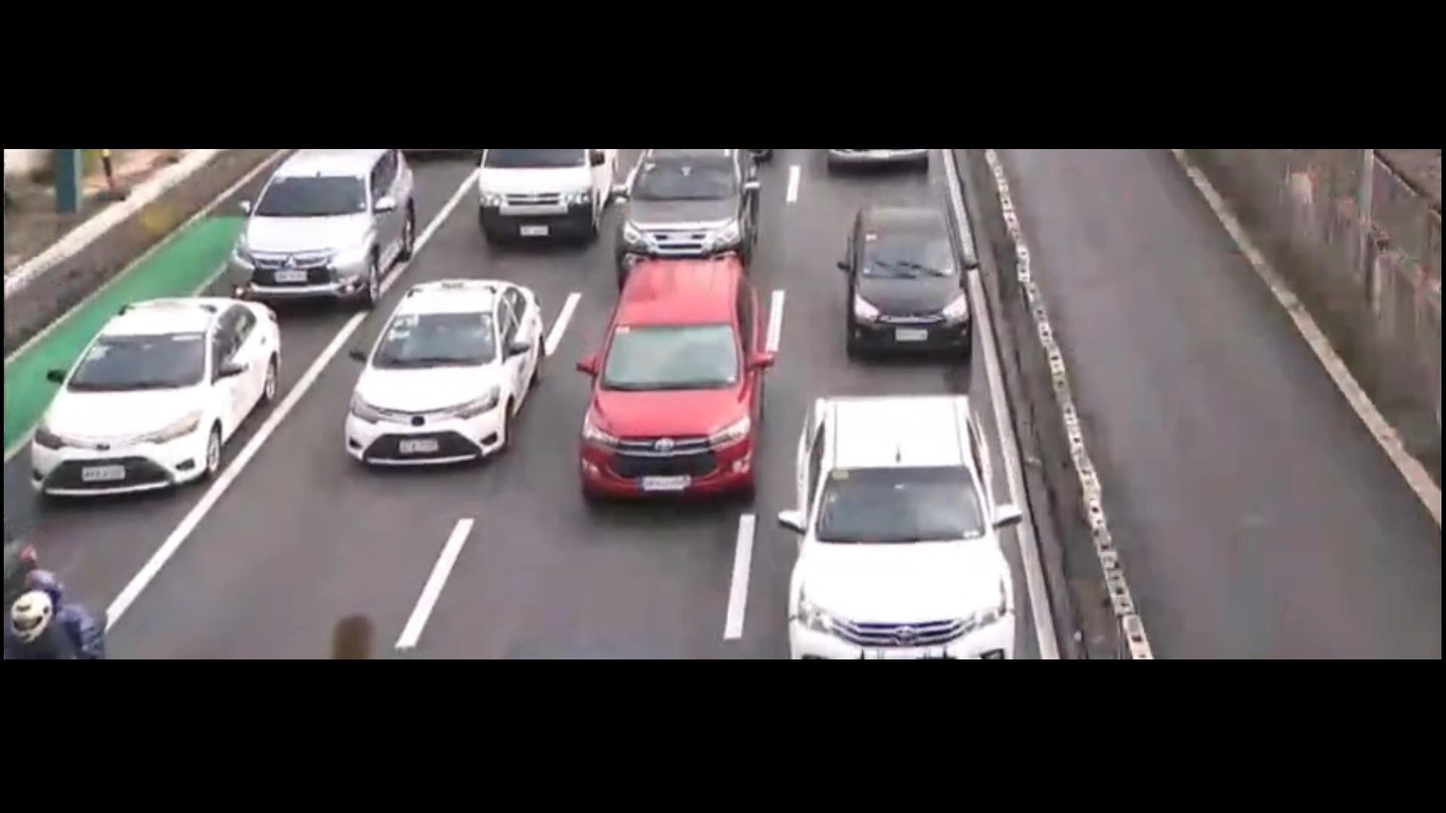SUV: (778, 397, 1011, 655), (584, 258, 763, 510), (224, 151, 410, 305), (612, 156, 759, 279)
Sedan: (28, 299, 277, 508), (345, 282, 546, 465), (838, 201, 970, 356)
Van: (476, 143, 614, 247)
